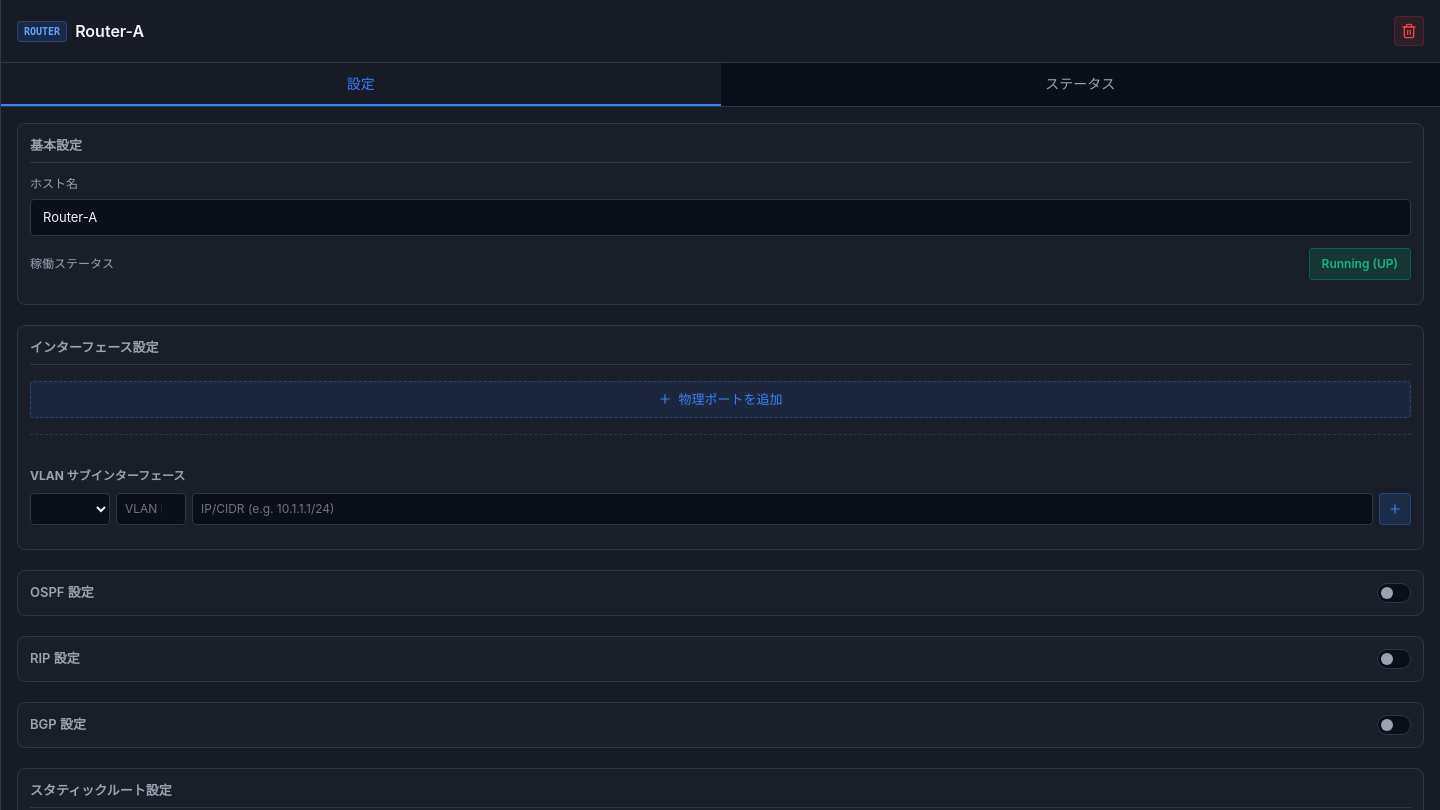
Test case: PropertyPanel Component › should fetch status on refresh click in status tab
Click the button "ステータス".
click(1080, 84)  # box [720,63,1439,106]
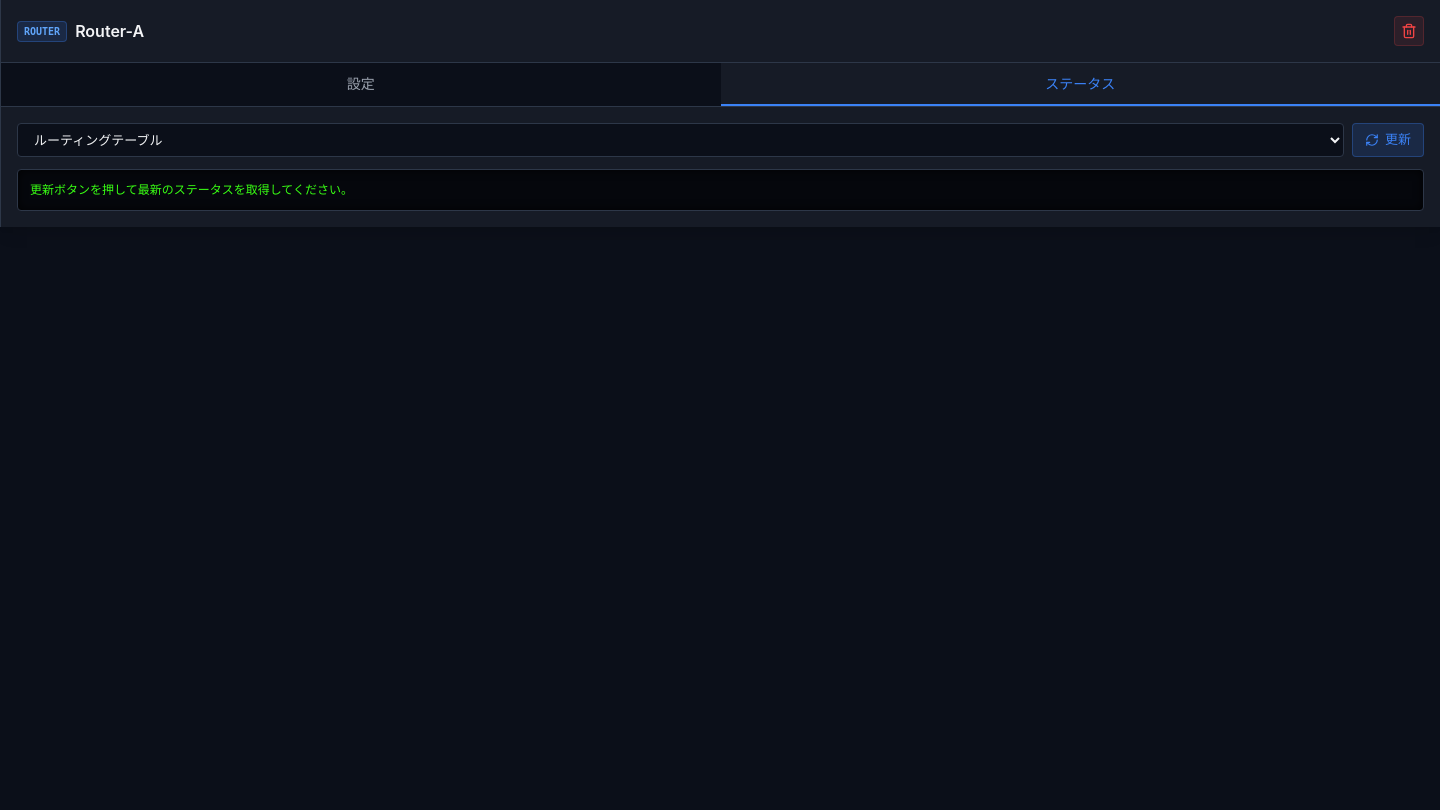
Result: the button with test id "refresh-status-btn" is shown
Click the button with test id "refresh-status-btn".
click(1388, 140)  # box [1352,123,1424,156]
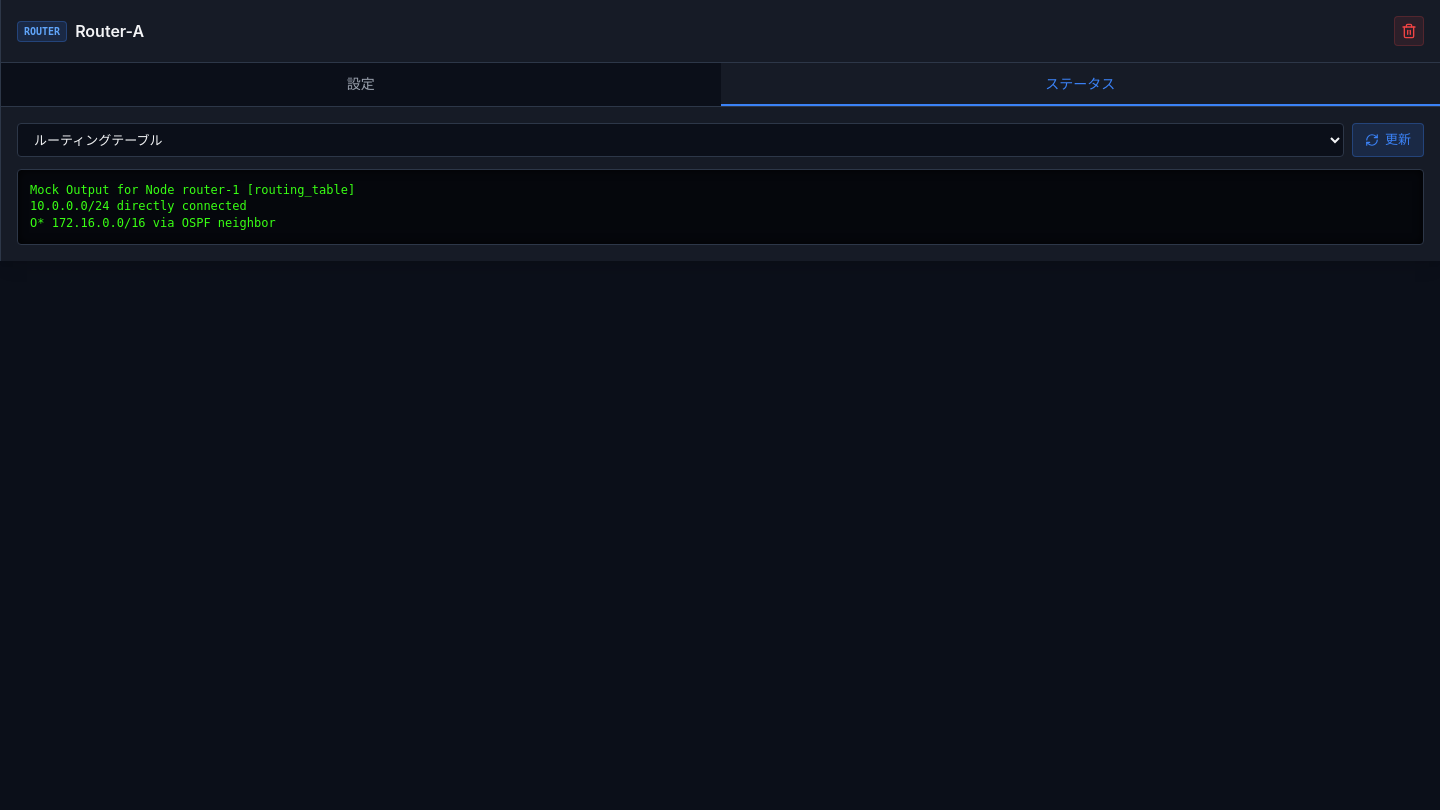
Result: the element with test id "cli-viewer" shows "Mock Output for Node router-1 [routing_table]" at [30,182,355,230]
